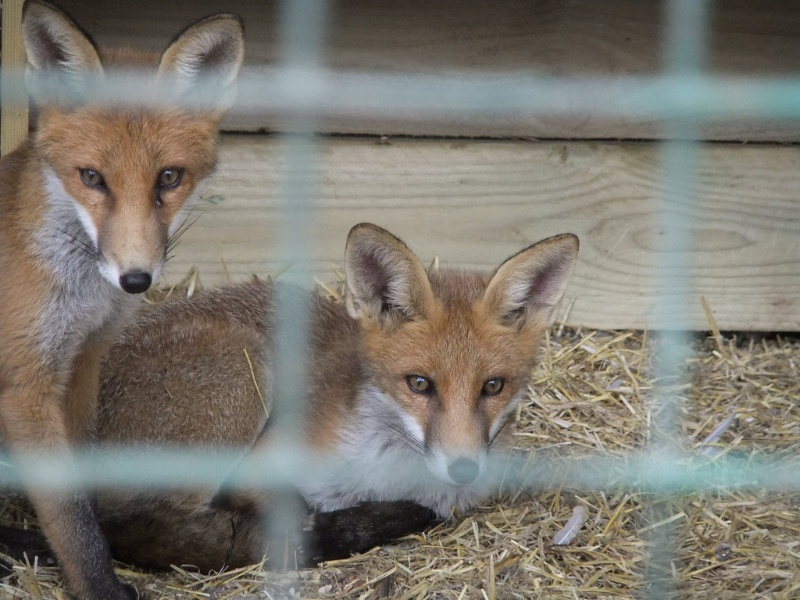fox: (71, 226, 596, 570), (1, 3, 246, 595)
